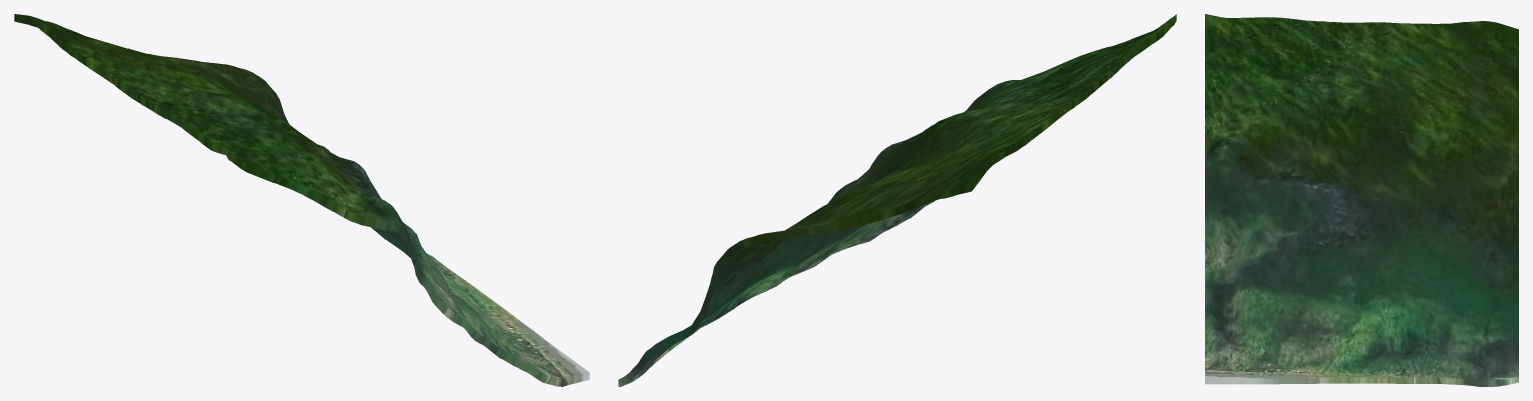
Rendered from z20-167555-405171-h0-yup-uvflip-v3-world.glb.
3 views of the same model, side by side, from view 1: azimuth 30°, elevation 25°; view 2: azimuth 150°, elevation 25°; view 3: azimuth 270°, elevation 25° (orthographic). The views are drawn at different scales.
Size of the model in its own units: 30.16 by 25.68 by 30.32.
Materials: 1 (1 with a texture image).
